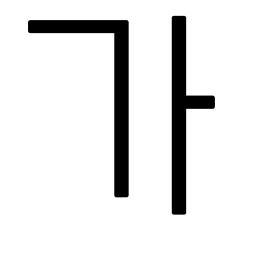Gaji: (154, 81, 205, 122)
